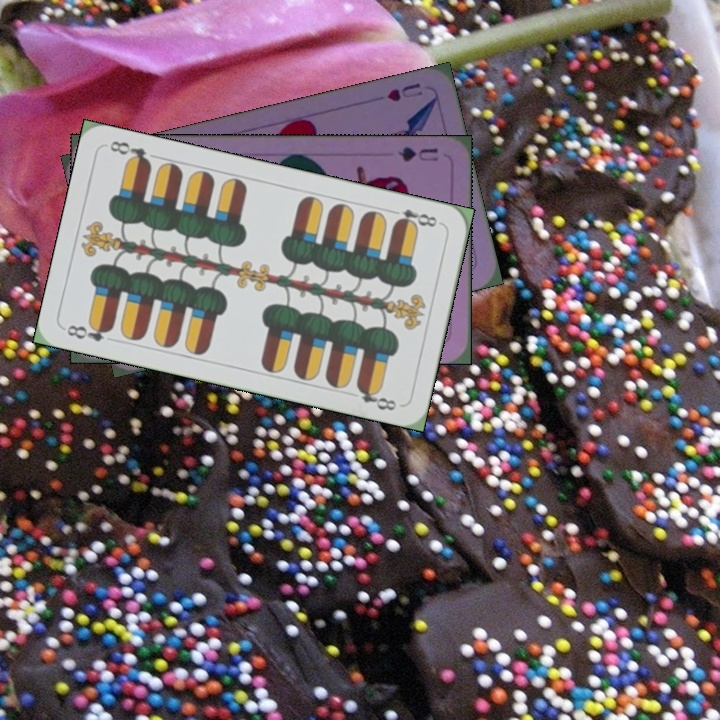E8: (386, 205, 444, 231), (62, 318, 115, 344)
GU: (394, 142, 441, 164)
HU: (383, 78, 425, 104)
